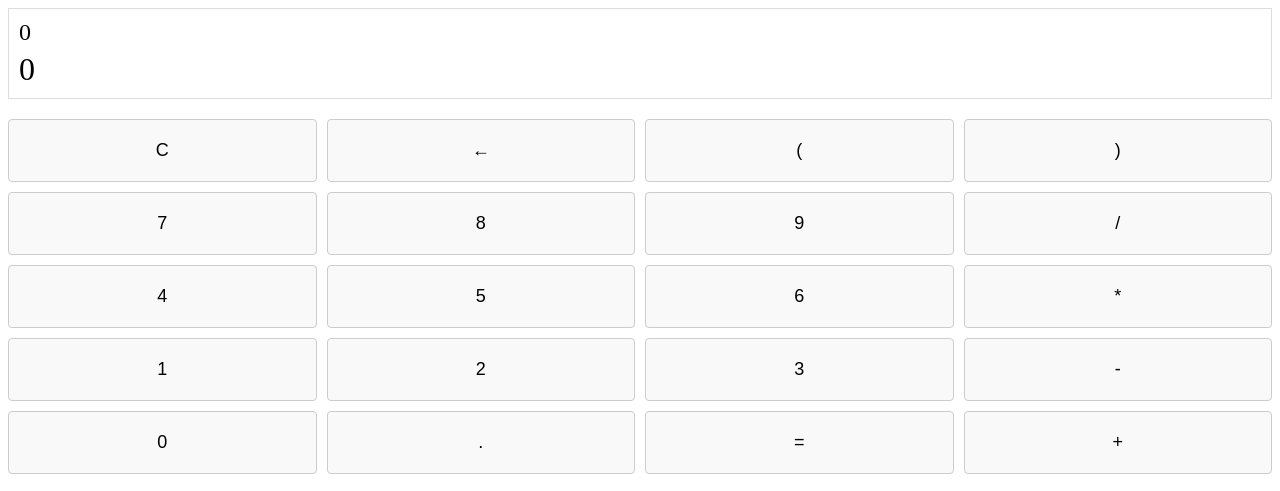
Test case: CalculatorPanel 컴포넌트 › 2자리 이상의 숫자를 입력할 수 있다
The image size is (1280, 491).
Click the button named "숫자 1": click(162, 370) [8, 338, 316, 401]
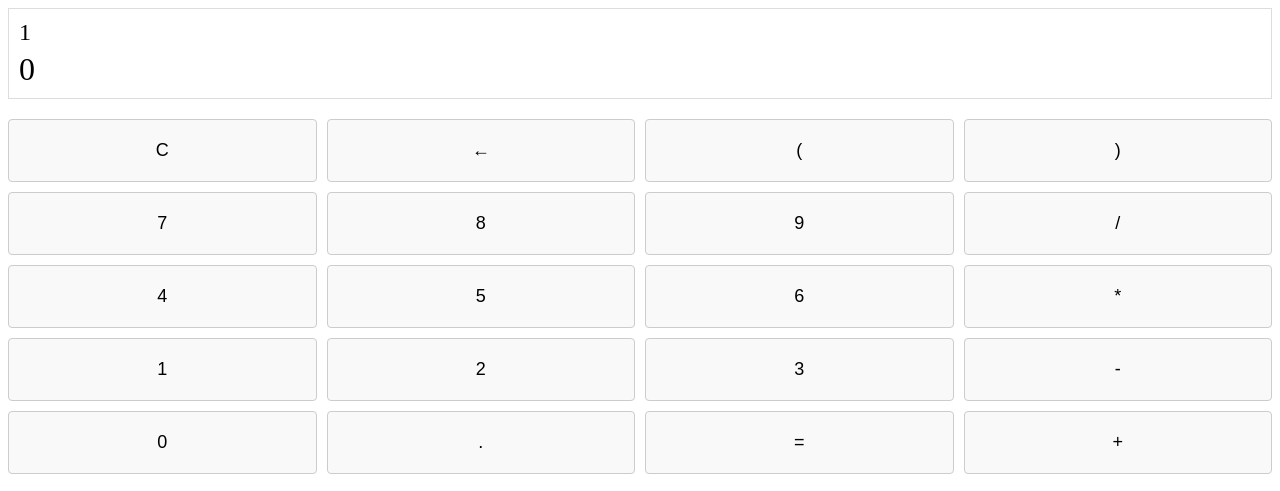
Click the button named "숫자 2": click(481, 370) [326, 338, 635, 401]
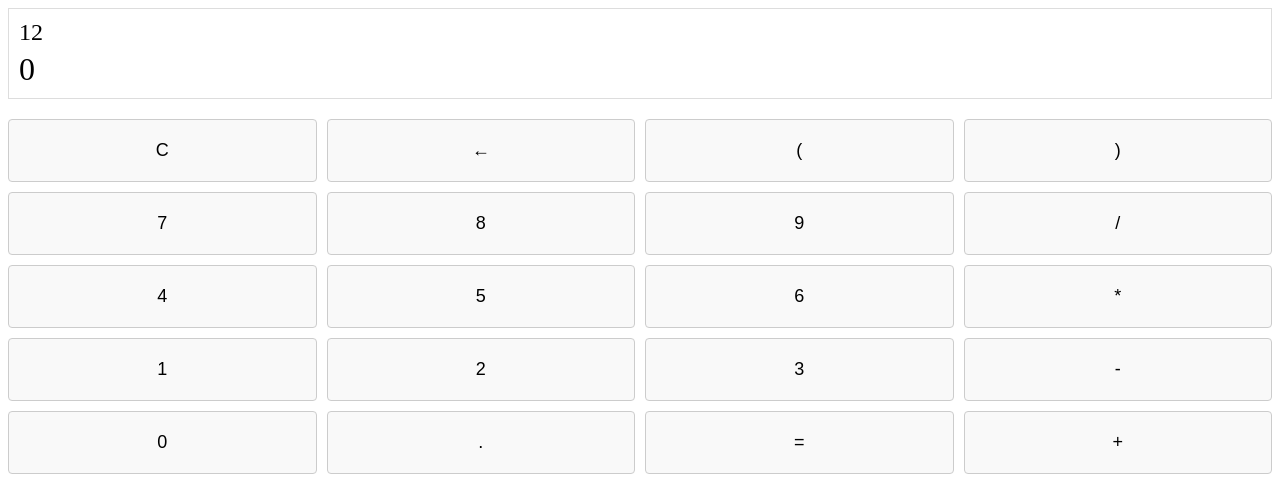
Result: the text named "수식" reads "12" at [19, 19, 43, 45]
